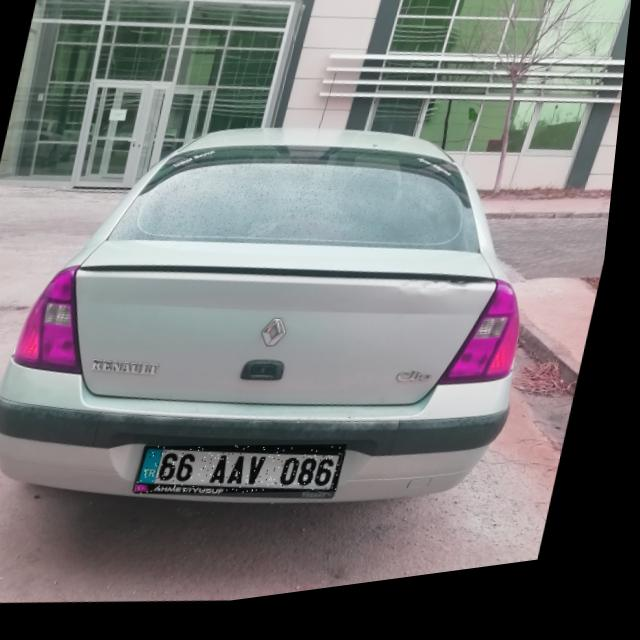license_plate: (144, 430, 360, 524)
